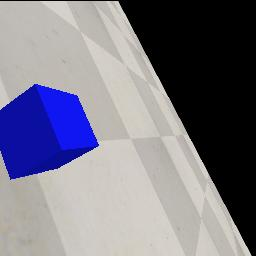box: (0, 84, 100, 180)
